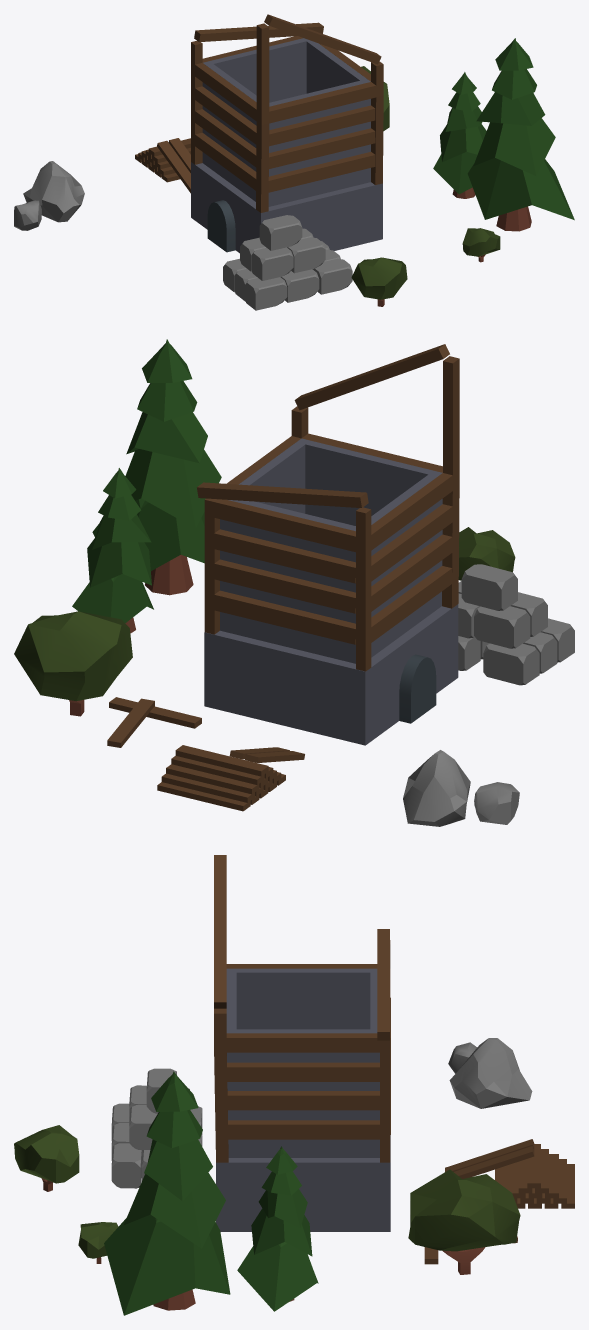
Rendered from ArsenalLVL1.fbx.
3 renders of one model, top to bottom at view 1: azimuth 30°, elevation 25°; view 2: azimuth 150°, elevation 25°; view 3: azimuth 270°, elevation 25°, orthographic. The views are drawn at different scales.
Visible parts, largest first — view 1: Cube, ель.004, Cube.001, Cube.004, ель.003, Cube.005, Cube.019, куст.002, Cube.007, Cube.025, Cube.009, Cube.022 (+11 smaller); view 2: Cube, Cube.001, ель.004, Cube.006, куст.003, ель.003, Cube.005, Cube.019, Cube.008, Cube.007, Cube.025, Cube.009 (+17 smaller); view 3: Cube, ель.004, Cube.003, куст.003, ель.003, Cube.001, Cube.019, куст.002, Cube.007, Cube.015, Cube.008, Cube.034 (+7 smaller).
Part boxes in pixels (bbox=[...]): Cube: bbox=[191, 38, 382, 253]; ель.004: bbox=[467, 38, 574, 231]; Cube.001: bbox=[191, 23, 383, 212]; Cube.004: bbox=[268, 105, 375, 192]; ель.003: bbox=[433, 72, 486, 198]; Cube.005: bbox=[195, 86, 256, 190]; Cube.019: bbox=[23, 161, 84, 222]; куст.002: bbox=[351, 257, 407, 306]; Cube.007: bbox=[264, 14, 381, 64]; Cube.025: bbox=[259, 215, 302, 250]; Cube.009: bbox=[207, 200, 235, 252]; Cube.022: bbox=[244, 277, 287, 310]; Cube: bbox=[204, 438, 458, 745]; Cube.001: bbox=[204, 356, 459, 671]; ель.004: bbox=[92, 339, 221, 595]; Cube.006: bbox=[214, 529, 355, 644]; куст.003: bbox=[14, 611, 132, 716]; ель.003: bbox=[72, 468, 153, 633]; Cube.005: bbox=[371, 504, 452, 642]; Cube.019: bbox=[403, 750, 470, 826]; Cube.008: bbox=[197, 482, 368, 507]; Cube.007: bbox=[294, 344, 449, 410]; Cube.025: bbox=[461, 564, 517, 610]; Cube.009: bbox=[399, 654, 436, 723]; Cube: bbox=[216, 968, 390, 1231]; ель.004: bbox=[104, 1071, 230, 1315]; Cube.003: bbox=[226, 1062, 379, 1139]; куст.003: bbox=[408, 1169, 520, 1274]; ель.003: bbox=[237, 1146, 318, 1311]; Cube.001: bbox=[214, 940, 390, 1162]; Cube.019: bbox=[449, 1038, 532, 1108]; куст.002: bbox=[14, 1125, 79, 1191]; Cube.007: bbox=[214, 855, 226, 1008]; Cube.015: bbox=[445, 1139, 534, 1178]; Cube.008: bbox=[377, 929, 389, 1040]; Cube.034: bbox=[111, 1143, 141, 1188].
Size of the model in its own units: 802 by 446 by 732.
